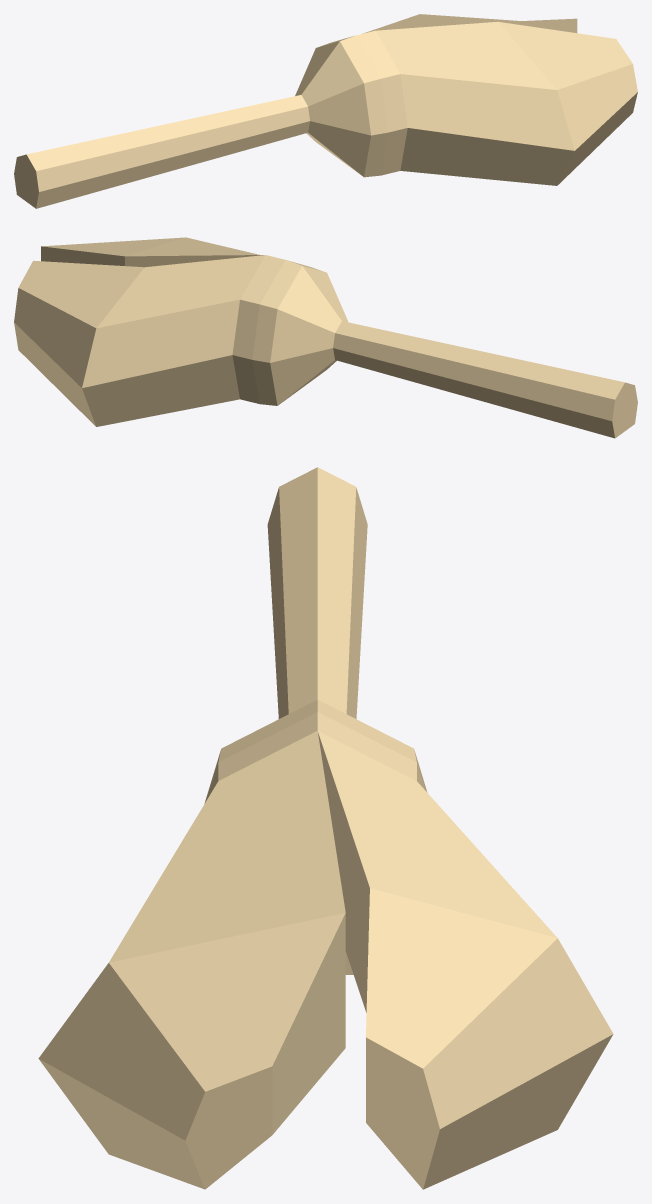
File: LeftArm.fbx
The picture shows the model from 3 angles, top to bottom: view 1: azimuth 30°, elevation 25°; view 2: azimuth 150°, elevation 25°; view 3: azimuth 270°, elevation 25°; orthographic projection. The views are drawn at different scales.
Visible parts, largest first — view 1: LeftArm; view 2: LeftArm; view 3: LeftArm.
Part boxes in pixels (<box>): LeftArm: <box>14,14,637,208</box>; LeftArm: <box>14,237,637,438</box>; LeftArm: <box>38,467,613,1189</box>.
Bounding box in the file's own units: 59.02 × 14.5 × 25.41.
